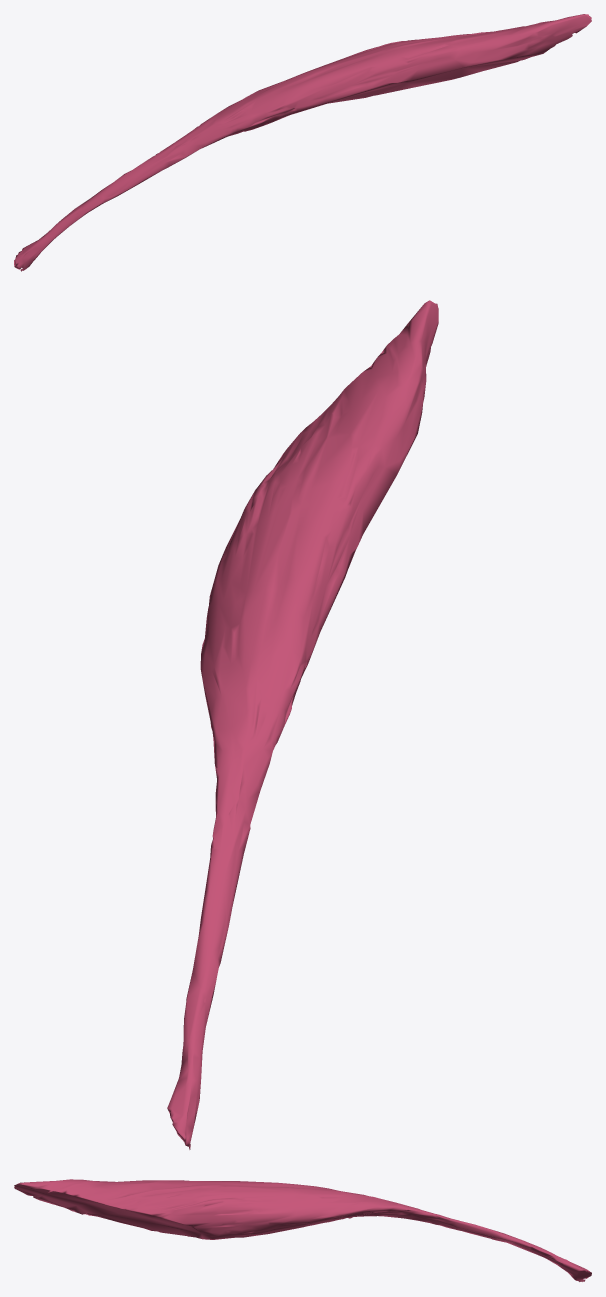
3 views of the same model, one above another, from view 1: azimuth 90°, elevation 25°; view 2: azimuth 150°, elevation 25°; view 3: azimuth 270°, elevation 25° (orthographic). The views are drawn at different scales.
Visible parts, largest first — view 1: 右侧拇长展肌; view 2: 右侧拇长展肌; view 3: 右侧拇长展肌.
Part boxes in pixels (<box>): 右侧拇长展肌: <box>14,14,591,271</box>; 右侧拇长展肌: <box>167,300,438,1149</box>; 右侧拇长展肌: <box>14,1179,591,1281</box>.
Size of the model in its own units: 0.0944 by 0.094 by 0.2767.
